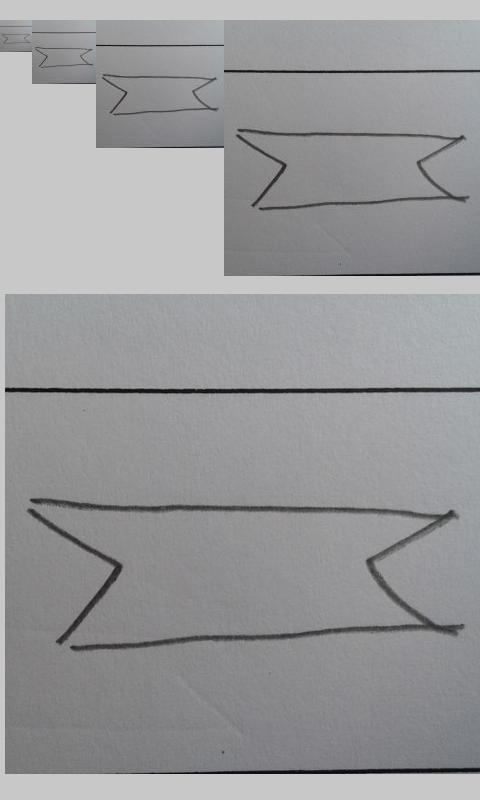edit_text: (29, 497, 456, 653), (235, 128, 458, 213), (101, 74, 214, 116), (35, 46, 93, 68), (2, 33, 30, 44)
